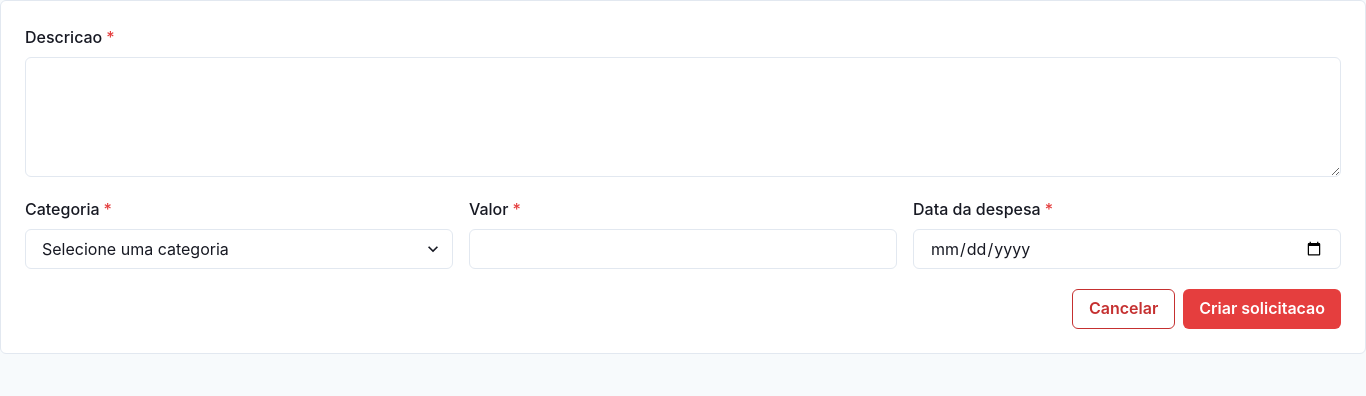
Test: ReimbursementForm › requires amount to be greater than zero
Type "Taxi para cliente" into the text box labelled "Descricao*" at (683, 117), box [25, 57, 1341, 177]
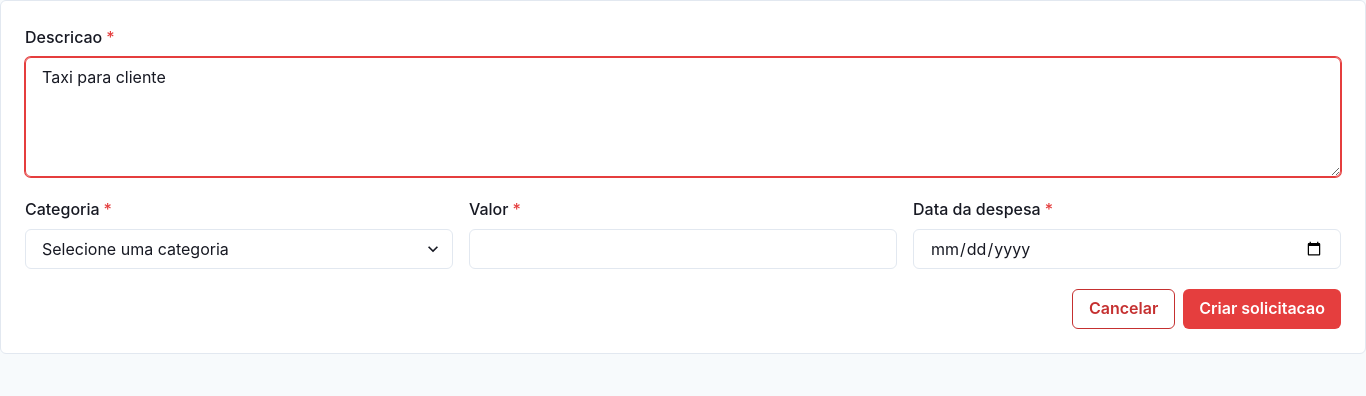
Select "Transporte" in the dropdown labelled "Categoria*" at (239, 249), box [25, 229, 453, 269]
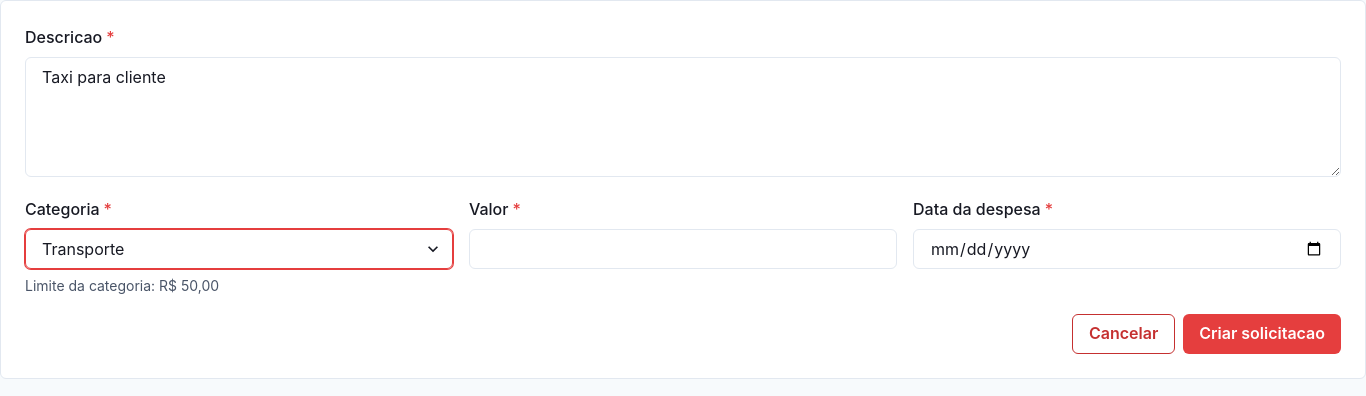
Type "0" into the number field labelled "Valor*" at (683, 249), box [469, 229, 897, 269]
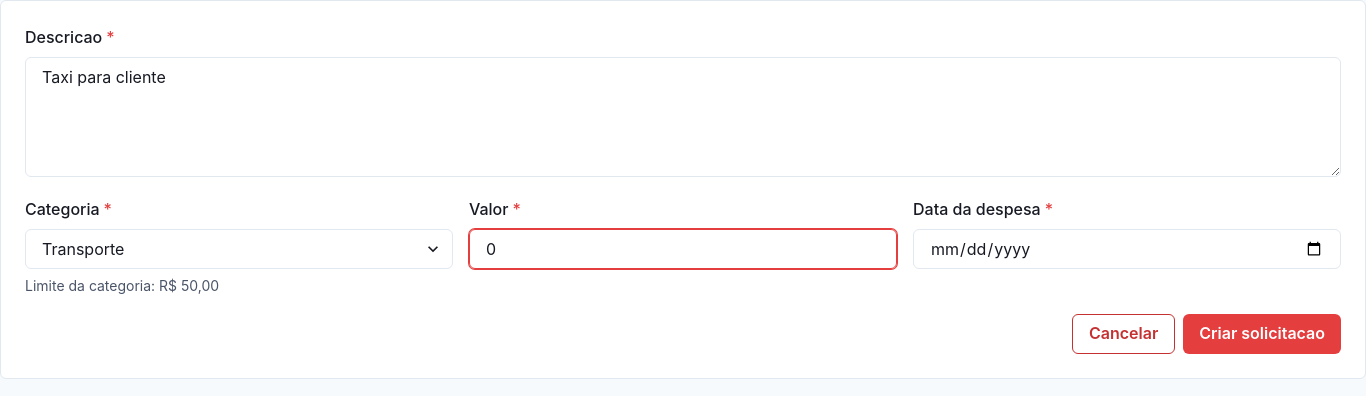
Type "2026-05-01" into the date field labelled "Data da despesa*" at (1127, 249), box [913, 229, 1341, 269]
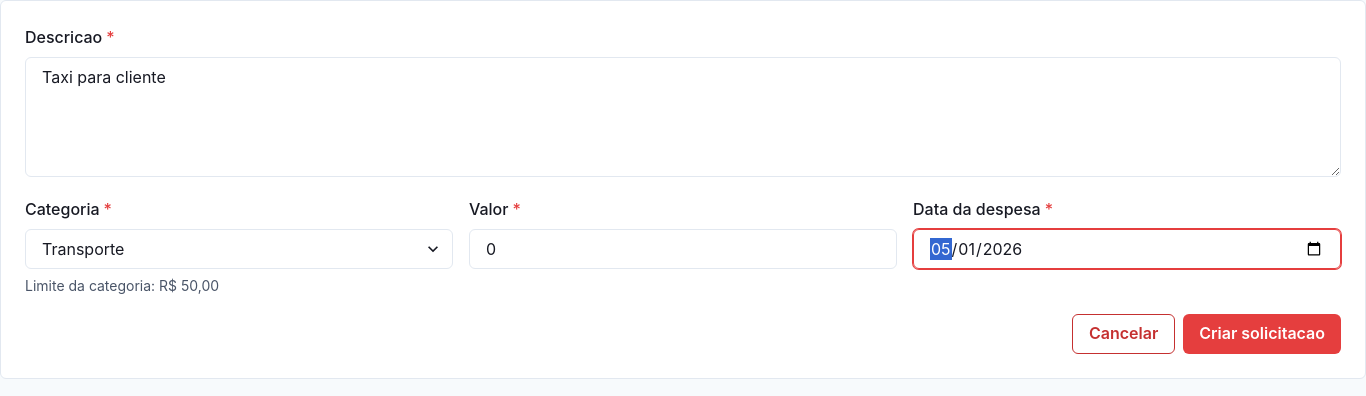
Click the button "Criar solicitacao" at (1262, 334), box [1183, 314, 1341, 354]
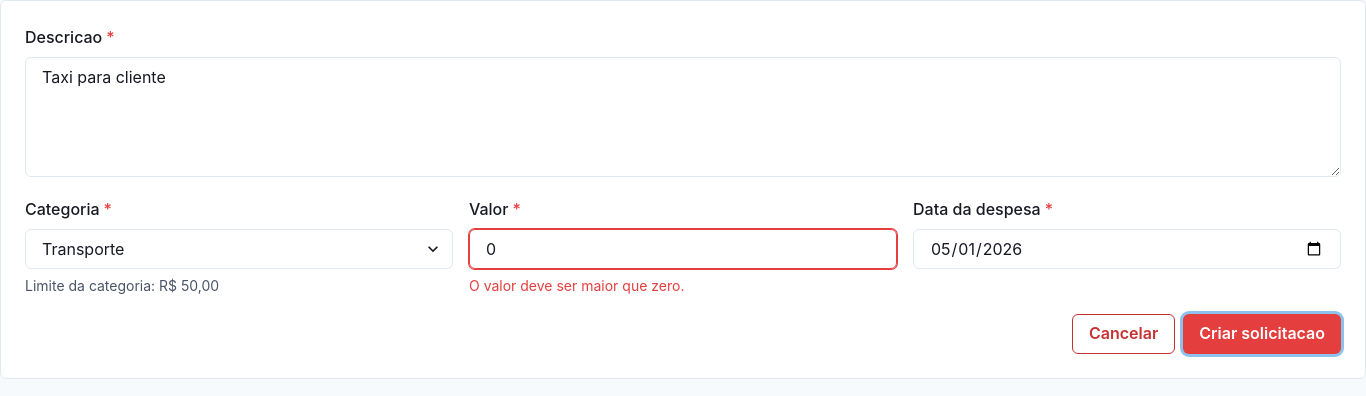
Check: the text "O valor deve ser maior que zero." is shown, box [469, 277, 684, 294]
